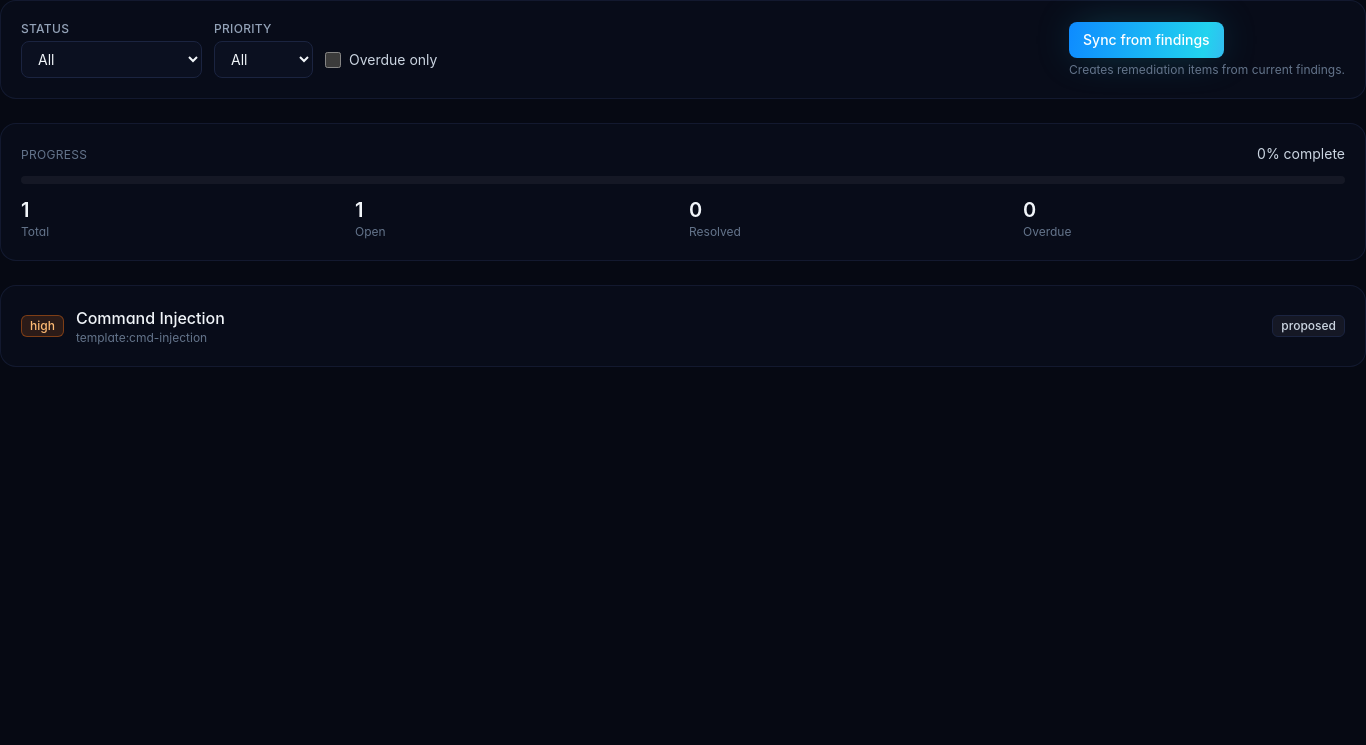
Test case: RemediationTab — optimistic locking and conflicts › shows the translated conflict message on a 409 rather than a raw error
This screenshot has width=1366, height=745.
Click the button "Command Injection".
click(42, 326)  # box [21,306,1345,346]
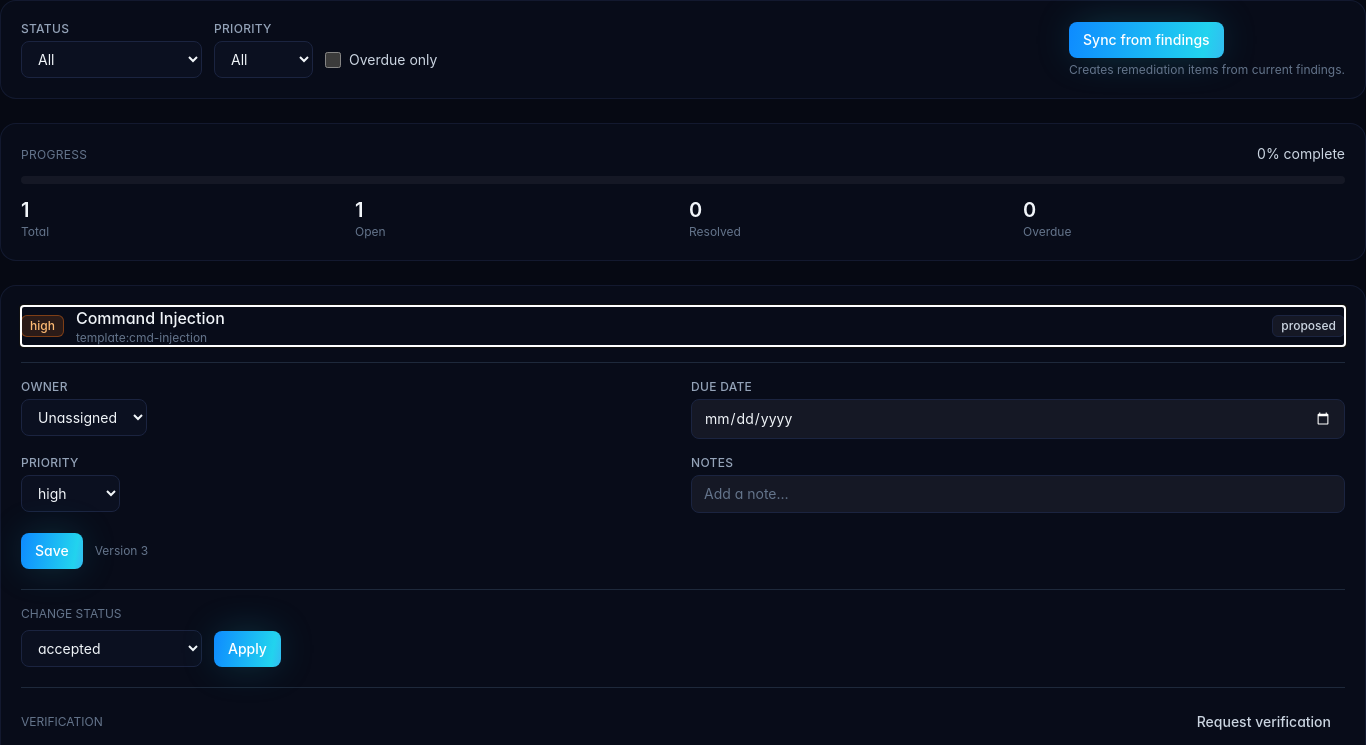
Click the button "Apply".
click(247, 649)  # box [214,631,281,667]
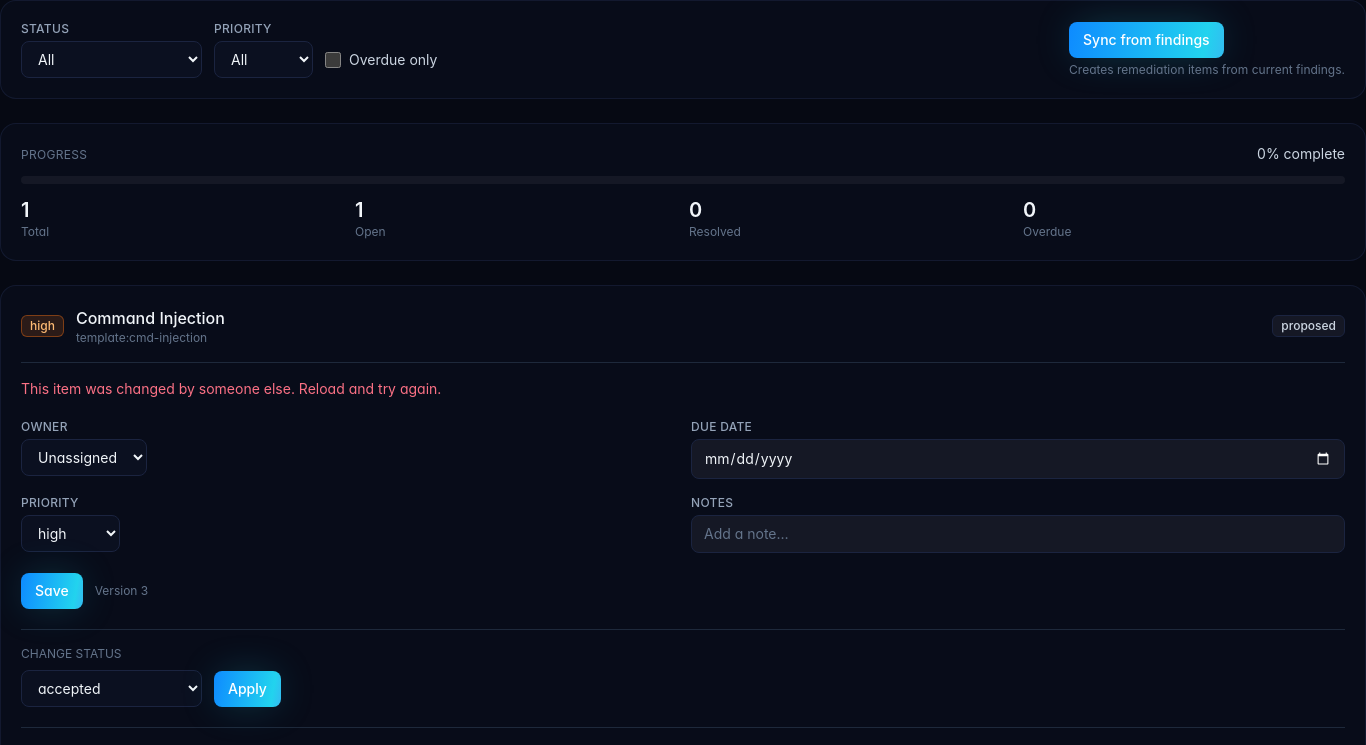
Now the text "This item was changed by someone else. Reload and try again." is shown, box [21,380,441,397]
